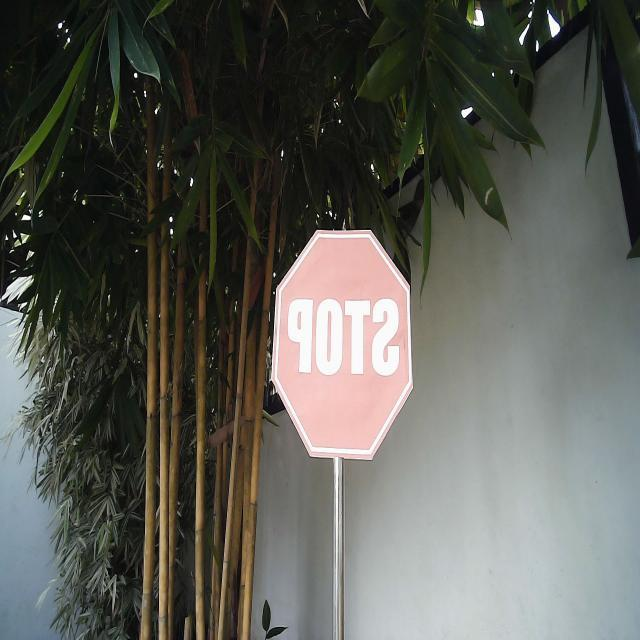stop: (270, 225, 414, 462)
